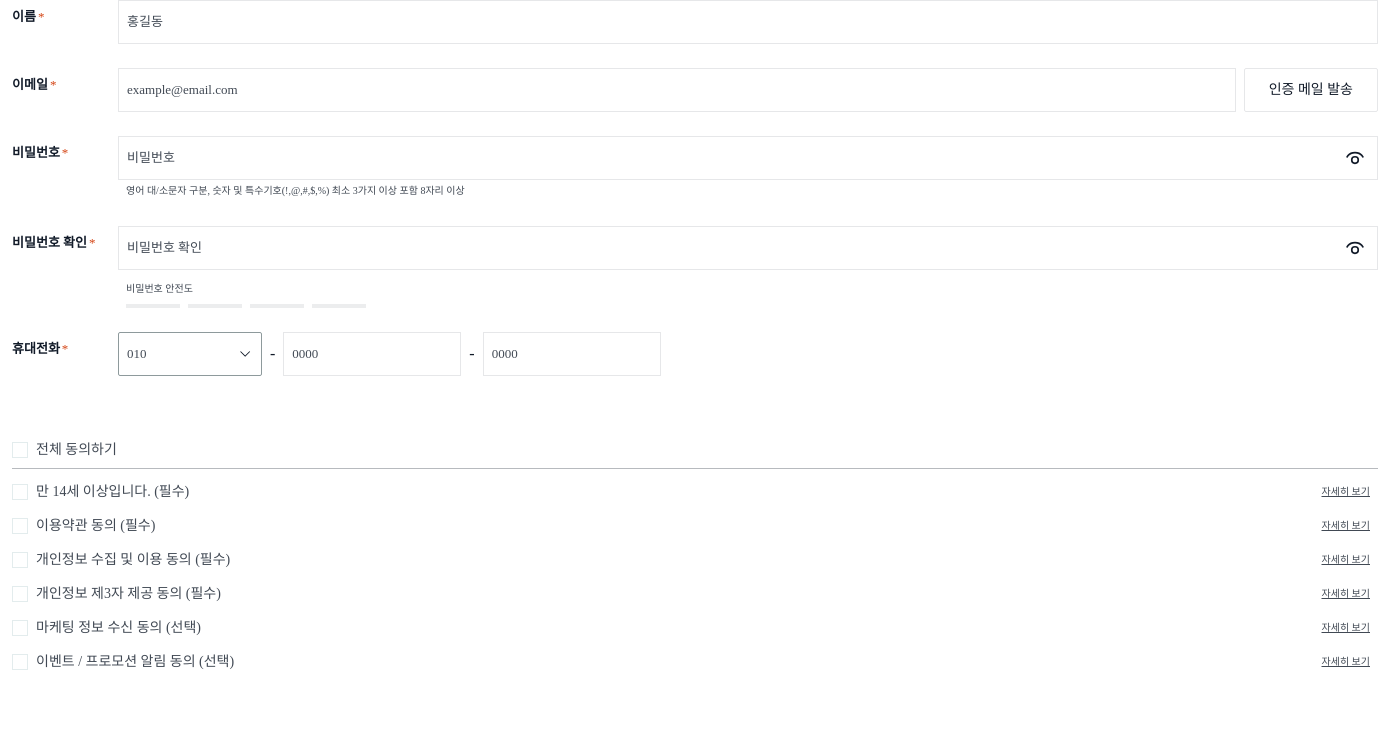
Test: SignupInfoForm › 전체 동의하기 체크 시 필수·선택 항목이 모두 체크된다
Click the checkbox named "전체 동의하기" next to "전체 동의하기": (20, 450) [12,442,28,458]
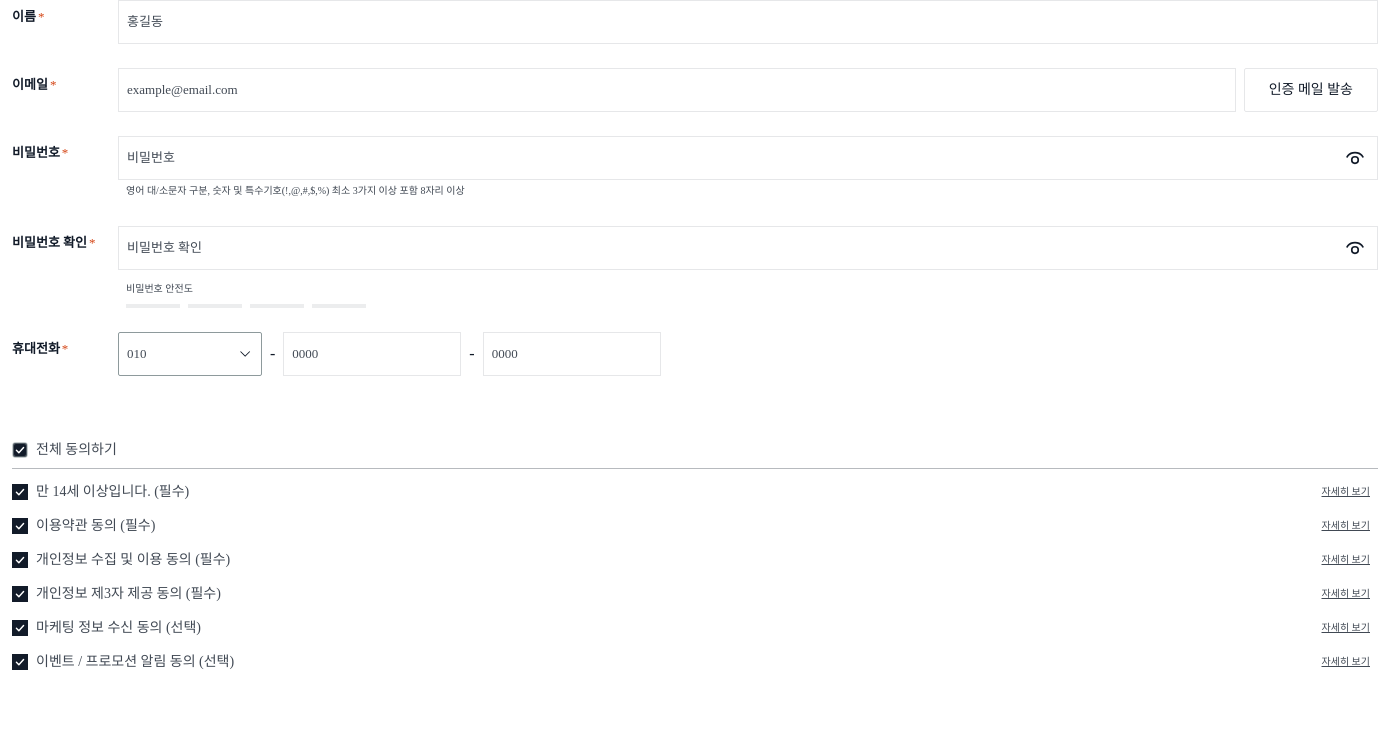
Expected: the checkbox named "만 14세 이상입니다. (필수)" next to "만 14세 이상입니다." is checked, [12,484,28,500]
Expected: the checkbox named "마케팅 정보 수신 동의 (선택)" next to "마케팅 정보 수신 동의" is checked, [12,620,28,636]
